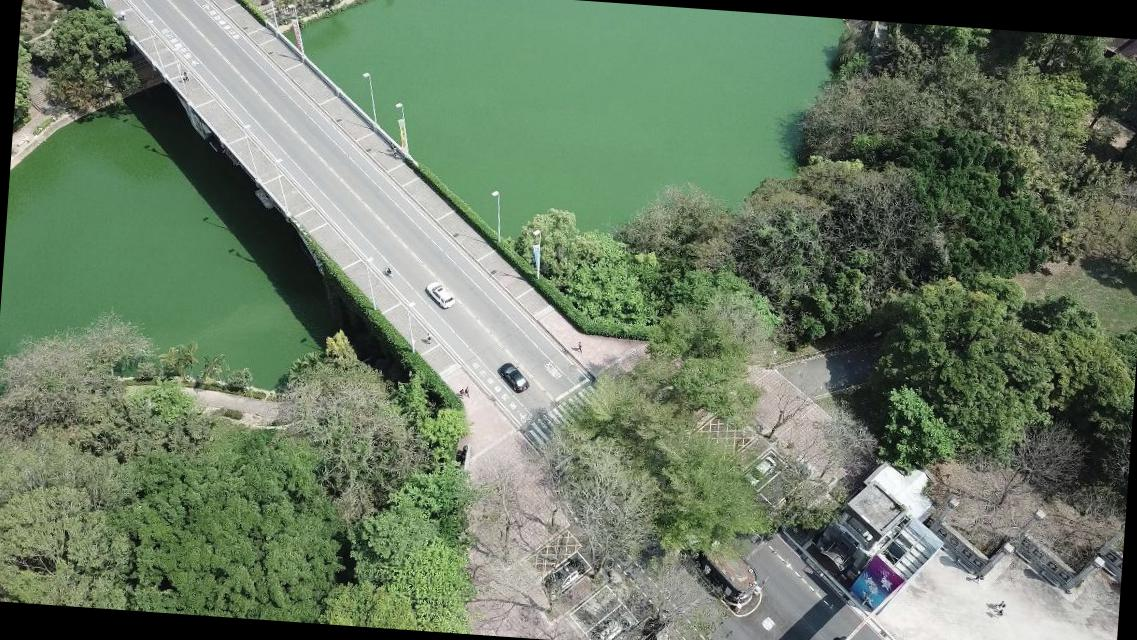vehicle: (544, 558, 583, 596), (595, 607, 638, 639), (742, 452, 776, 490), (495, 361, 529, 392), (424, 280, 456, 309), (829, 631, 876, 639)
